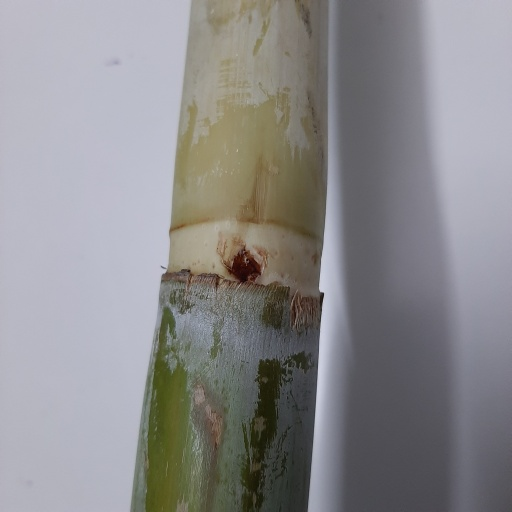Damage_Bud: (227, 243, 267, 283)
